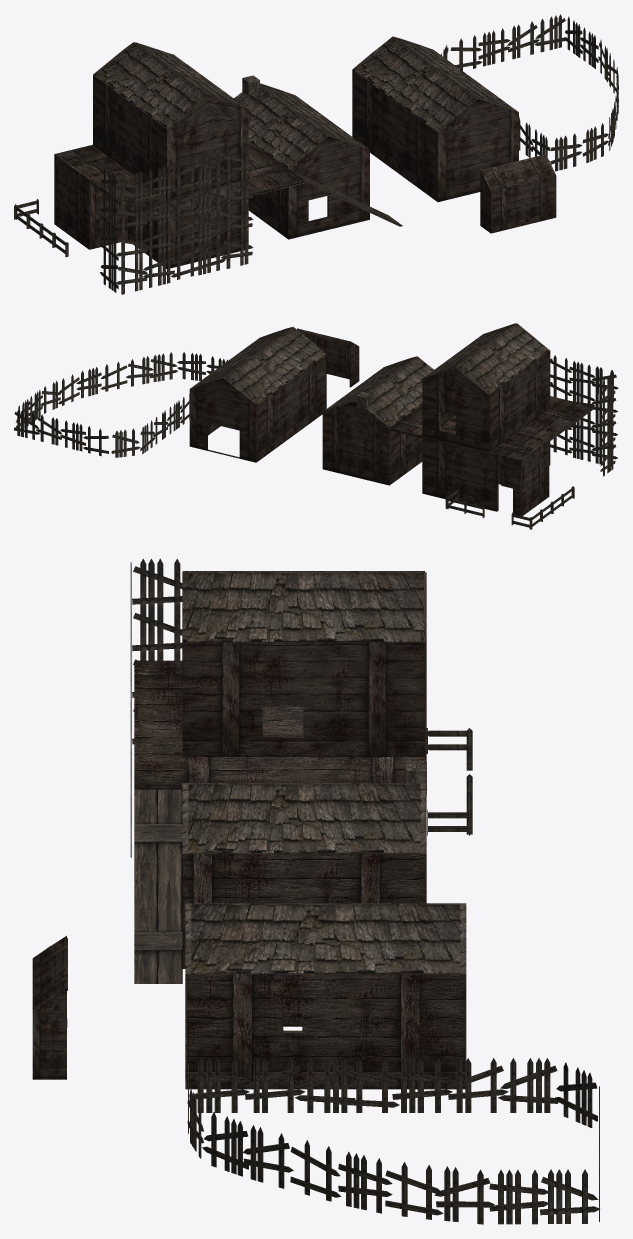
The model's file is Village1.fbx.
3 views of the same model, one above another, from view 1: azimuth 30°, elevation 25°; view 2: azimuth 150°, elevation 25°; view 3: azimuth 270°, elevation 25° (orthographic). The views are drawn at different scales.
Parts seen in each view (by area): view 1: 家.002, 家.005, 家.022, 小屋.007, 置き板, 柵.014, 柵.005, 柵.002, 柵.047, 柵.055, 柵.057, 柵.052 (+26 smaller); view 2: 家.002, 家.005, 家.022, 小屋.007, 柵.020, 柵.006, 柵.055, 柵.047, 柵.017, 柵.002, 柵.005, 柵.019 (+7 smaller); view 3: 家.002, 家.005, 家.022, 置き板, 小屋.007, 柵.013, 柵.003, 柵.011, 柵.008, 柵.015, 柵.012, 柵.062 (+11 smaller).
Boxes of the visible parts, bbox=[...] form: 家.002: bbox=[54, 42, 304, 268]; 家.005: bbox=[352, 36, 518, 202]; 家.022: bbox=[234, 83, 369, 239]; 小屋.007: bbox=[480, 154, 556, 233]; 置き板: bbox=[291, 170, 402, 226]; 柵.014: bbox=[550, 133, 582, 171]; 柵.005: bbox=[534, 14, 565, 52]; 柵.002: bbox=[478, 28, 510, 66]; 柵.047: bbox=[143, 250, 174, 287]; 柵.055: bbox=[143, 164, 174, 202]; 柵.057: bbox=[194, 152, 225, 189]; 柵.052: bbox=[143, 222, 174, 258]; 家.002: bbox=[390, 323, 593, 515]; 家.005: bbox=[189, 326, 326, 462]; 家.022: bbox=[322, 356, 433, 485]; 小屋.007: bbox=[297, 328, 359, 387]; 柵.020: bbox=[150, 352, 177, 381]; 柵.006: bbox=[111, 428, 140, 457]; 柵.055: bbox=[569, 361, 595, 391]; 柵.047: bbox=[569, 433, 595, 461]; 柵.017: bbox=[177, 352, 205, 380]; 柵.002: bbox=[60, 420, 85, 451]; 柵.005: bbox=[14, 409, 39, 439]; 柵.019: bbox=[76, 367, 101, 398]; 家.002: bbox=[134, 571, 426, 789]; 家.005: bbox=[185, 903, 466, 1089]; 家.022: bbox=[182, 783, 426, 968]; 置き板: bbox=[134, 787, 182, 983]; 小屋.007: bbox=[32, 935, 67, 1079]; 柵.013: bbox=[189, 1058, 249, 1112]; 柵.003: bbox=[295, 1058, 355, 1112]; 柵.011: bbox=[498, 1058, 558, 1112]; 柵.008: bbox=[392, 1058, 452, 1112]; 柵.015: bbox=[489, 1169, 549, 1224]; 柵.012: bbox=[540, 1169, 599, 1223]; 柵.062: bbox=[132, 605, 182, 659].
Bounding box in the file's own units: 1865 × 489 × 940.
Materials: 42 (42 with a texture image).
